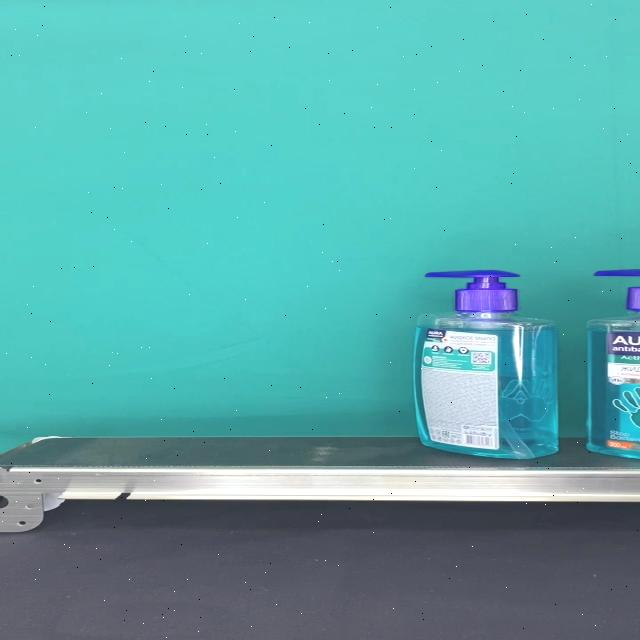Bottle: (412, 270, 558, 459)
Cap: (424, 270, 519, 312)
